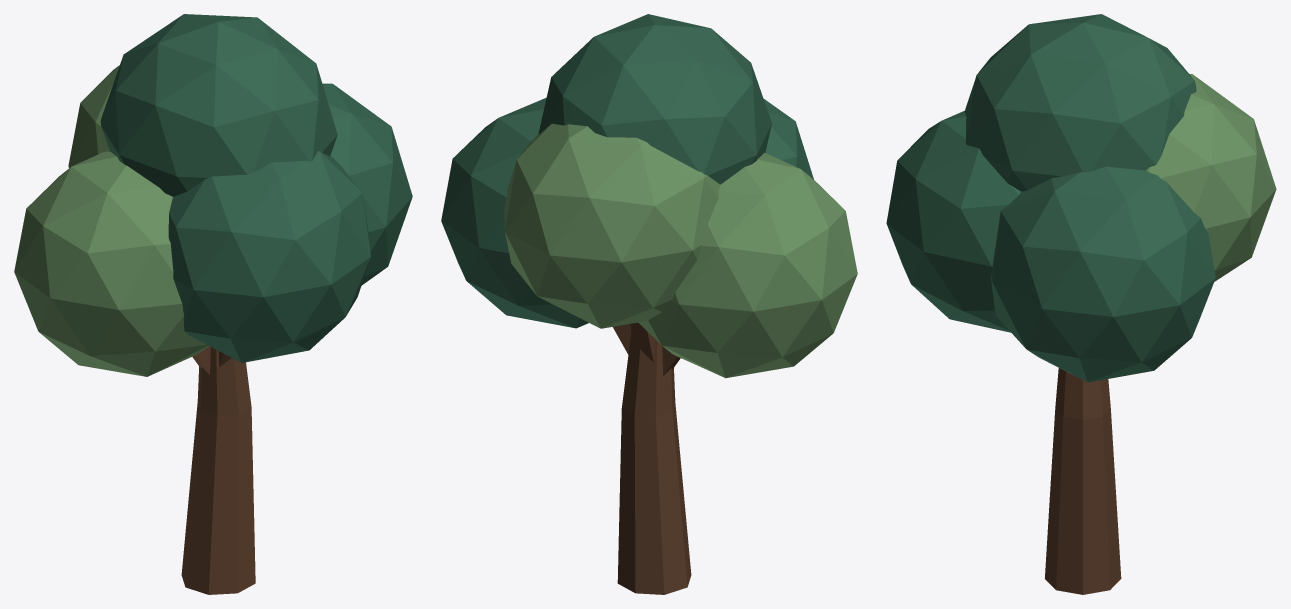
Rendered from PirateCove_SeaGrape_Standard.glb.
The picture shows the model from 3 angles, left to right: view 1: azimuth 30°, elevation 25°; view 2: azimuth 150°, elevation 25°; view 3: azimuth 270°, elevation 25°; orthographic projection.
Parts seen in each view (by area): view 1: PirateCove_SeaGrape_Standard; view 2: PirateCove_SeaGrape_Standard; view 3: PirateCove_SeaGrape_Standard.
Boxes of the visible parts, box(x1,y1,x2,y2) form: PirateCove_SeaGrape_Standard: box(14, 14, 412, 594); PirateCove_SeaGrape_Standard: box(441, 14, 857, 594); PirateCove_SeaGrape_Standard: box(886, 14, 1276, 594).
Bounding box in the file's own units: 2.5 × 3.53 × 2.24.
